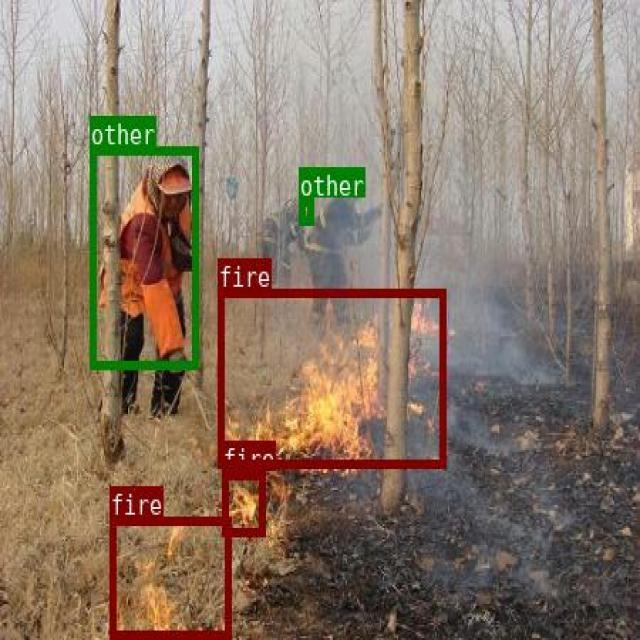fire: (218, 288, 445, 466), (108, 517, 229, 636), (221, 471, 264, 535)
